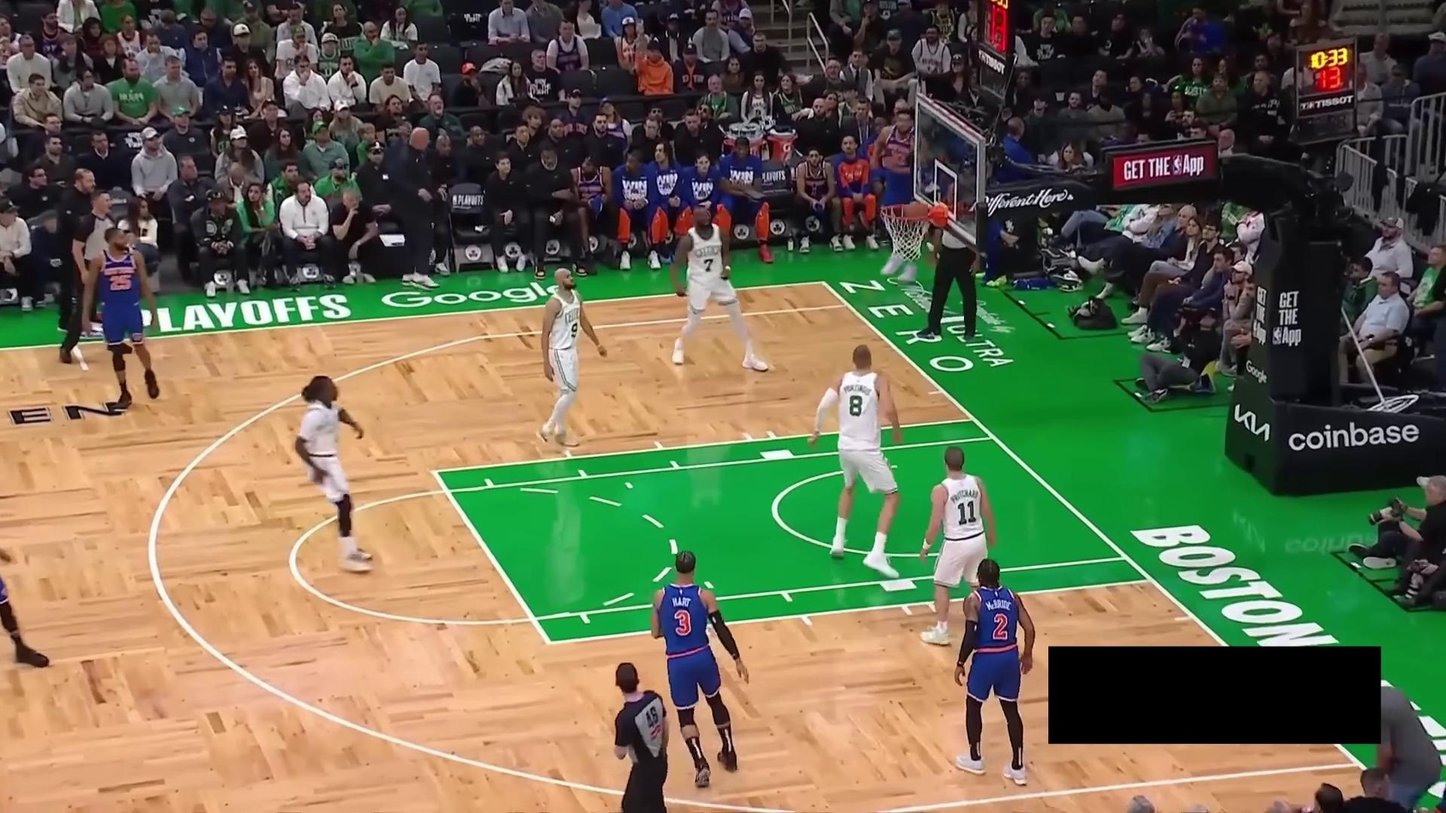ball: (904, 200, 928, 221)
number: (957, 500, 976, 526), (674, 608, 690, 635), (108, 273, 132, 291), (848, 394, 864, 418), (994, 612, 1008, 637), (703, 257, 715, 273), (570, 321, 578, 339)
player: (650, 550, 749, 789), (806, 344, 902, 574), (952, 557, 1036, 787), (671, 201, 771, 373), (293, 374, 376, 575), (920, 446, 996, 648), (85, 226, 162, 413), (538, 266, 604, 448), (868, 106, 921, 282), (0, 540, 52, 668)
referee: (58, 189, 120, 365), (611, 661, 673, 813), (921, 201, 986, 341)
rim: (885, 203, 933, 221)
